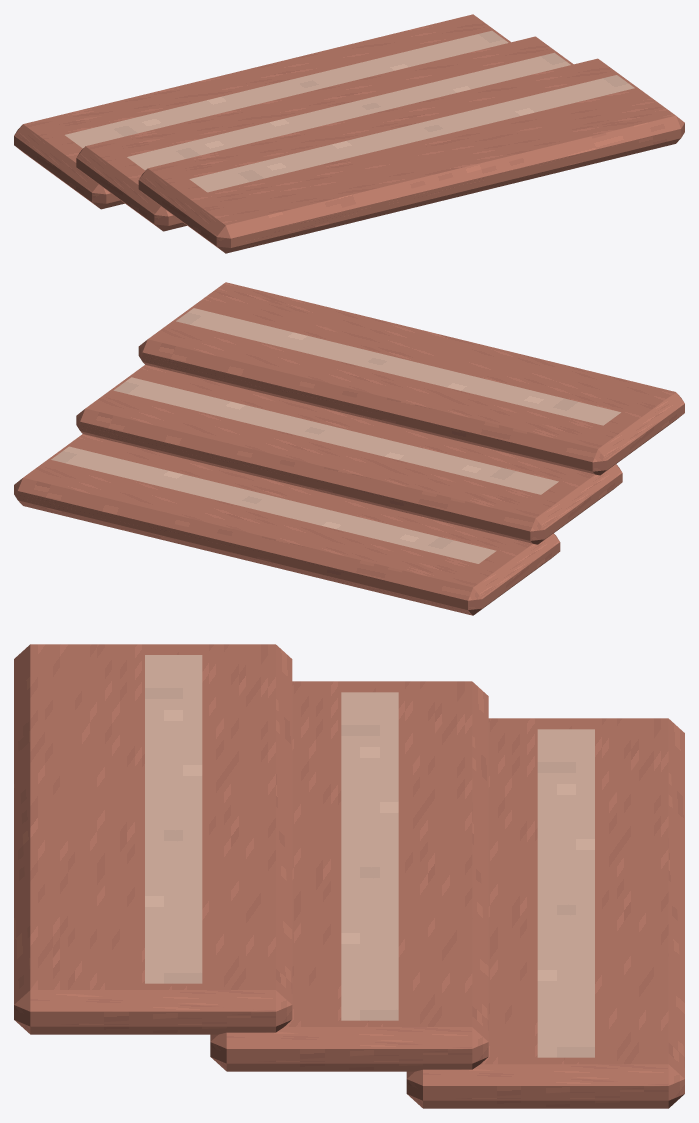
The model's file is bacon.glb.
3 views of the same model, one above another, from view 1: azimuth 30°, elevation 25°; view 2: azimuth 150°, elevation 25°; view 3: azimuth 270°, elevation 25° (orthographic). The views are drawn at different scales.
Parts seen in each view (by area): view 1: block_cut slice (×3), block_fat streak (×3); view 2: block_cut slice (×3), block_fat streak (×3); view 3: block_cut slice (×3), block_fat streak (×3).
Boxes of the visible parts, box(x1,y1,x2,y2) form: block_cut slice (×3): box(14, 14, 684, 253); block_fat streak (×3): box(65, 30, 634, 192); block_cut slice (×3): box(14, 282, 684, 615); block_fat streak (×3): box(51, 308, 620, 563); block_cut slice (×3): box(14, 644, 684, 1108); block_fat streak (×3): box(145, 655, 594, 1057).
Bounding box in the file's own units: 0.104 × 0.0164 × 0.082.
Materials: 1 (1 with a texture image).
